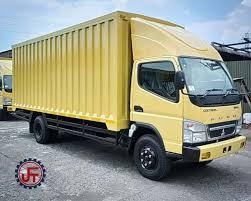truck: (121, 14, 251, 182)
